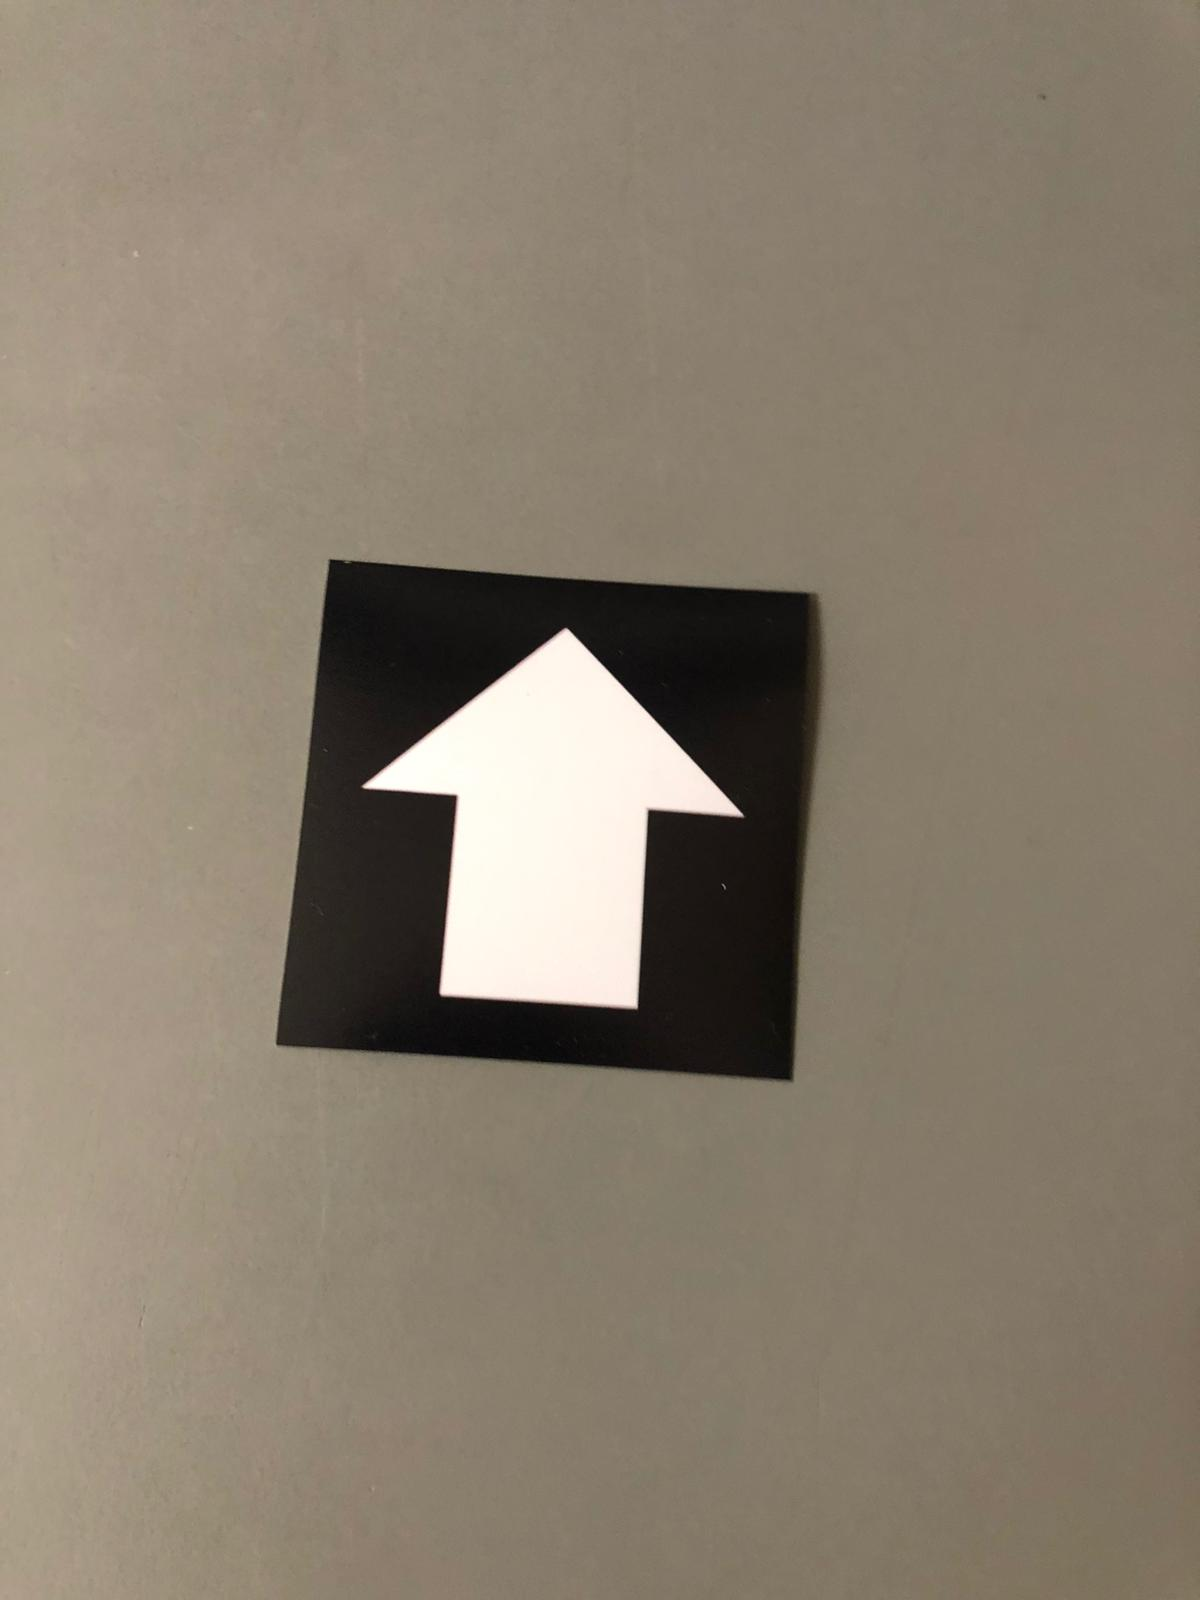Top Arrow: (332, 577, 758, 1053)
